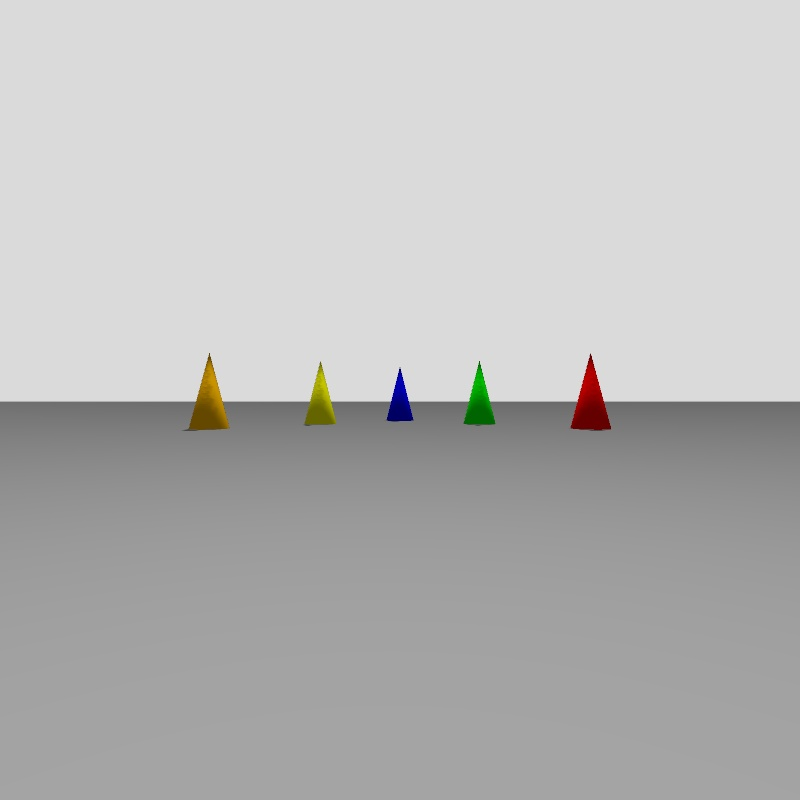Blue_cone: (387, 369, 413, 420)
Green_cone: (305, 362, 335, 425), (464, 362, 494, 423)
Orange_cone: (190, 354, 229, 429)
Red_cone: (572, 354, 610, 428)
